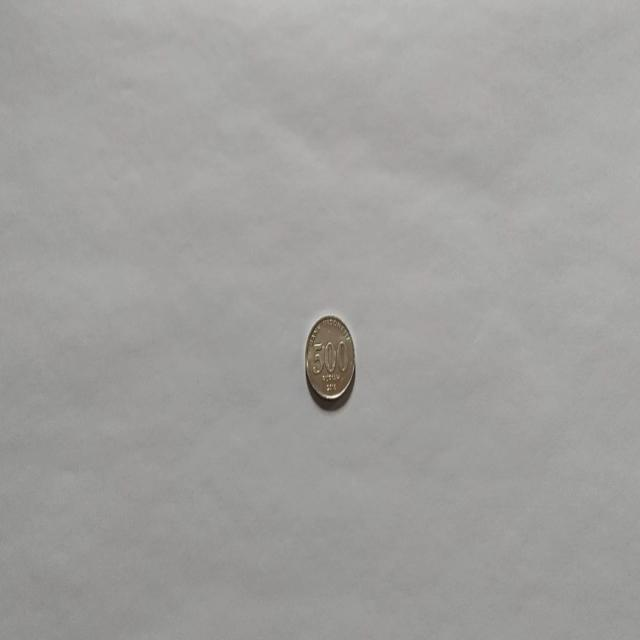lima ratus rupiah: (304, 313, 356, 407)
